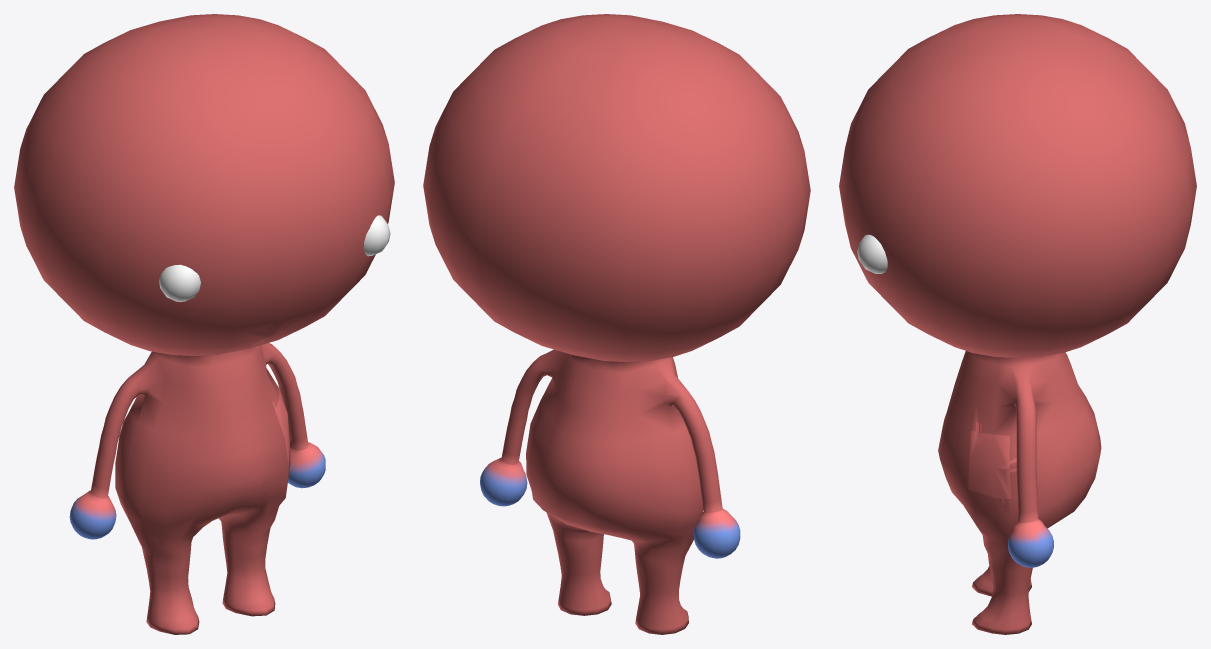
File: character_3.fbx
3 views of the same model, side by side, from view 1: azimuth 30°, elevation 25°; view 2: azimuth 150°, elevation 25°; view 3: azimuth 270°, elevation 25° (orthographic). The views are drawn at different scales.
Visible parts, largest first — view 1: bob; view 2: bob; view 3: bob.
Part boxes in pixels (x1,y1,x2,y2): bob: (14, 14, 394, 634); bob: (423, 14, 810, 634); bob: (839, 14, 1196, 634).
Bounding box in the file's own units: 117 × 193 × 110.
